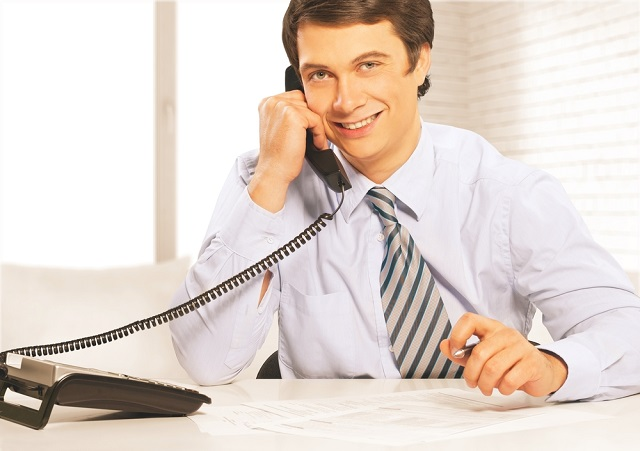phone: (259, 87, 337, 163)
talk: (259, 46, 401, 189)
